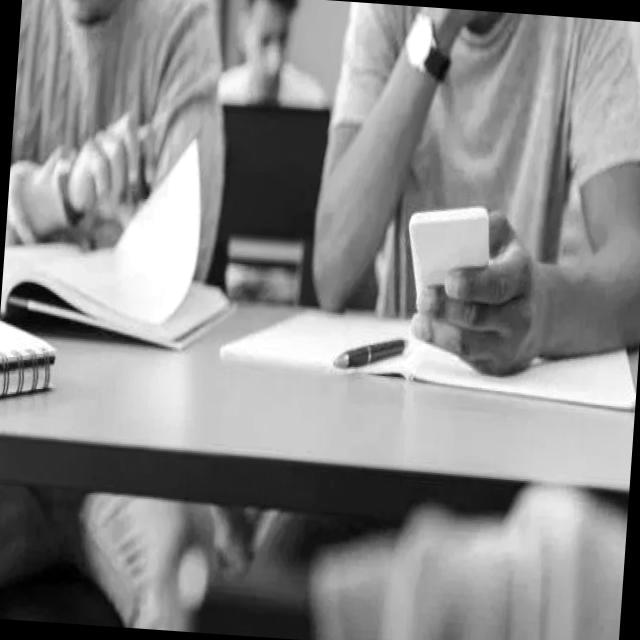phone: (404, 200, 494, 309)
